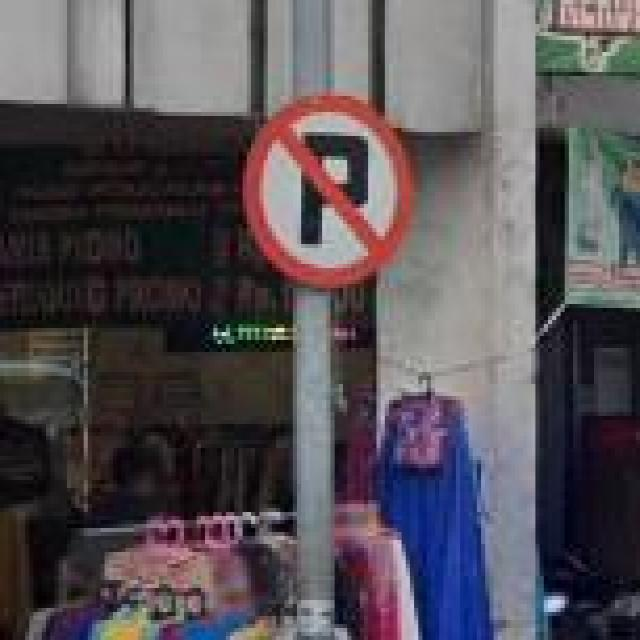traffic sign: (243, 96, 410, 292)
